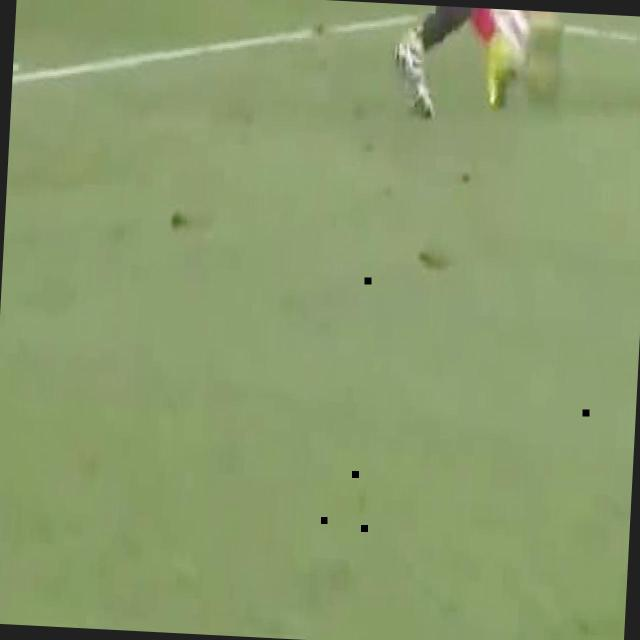ball: (487, 8, 532, 76)
player-white: (322, 0, 518, 130), (430, 6, 584, 121)
